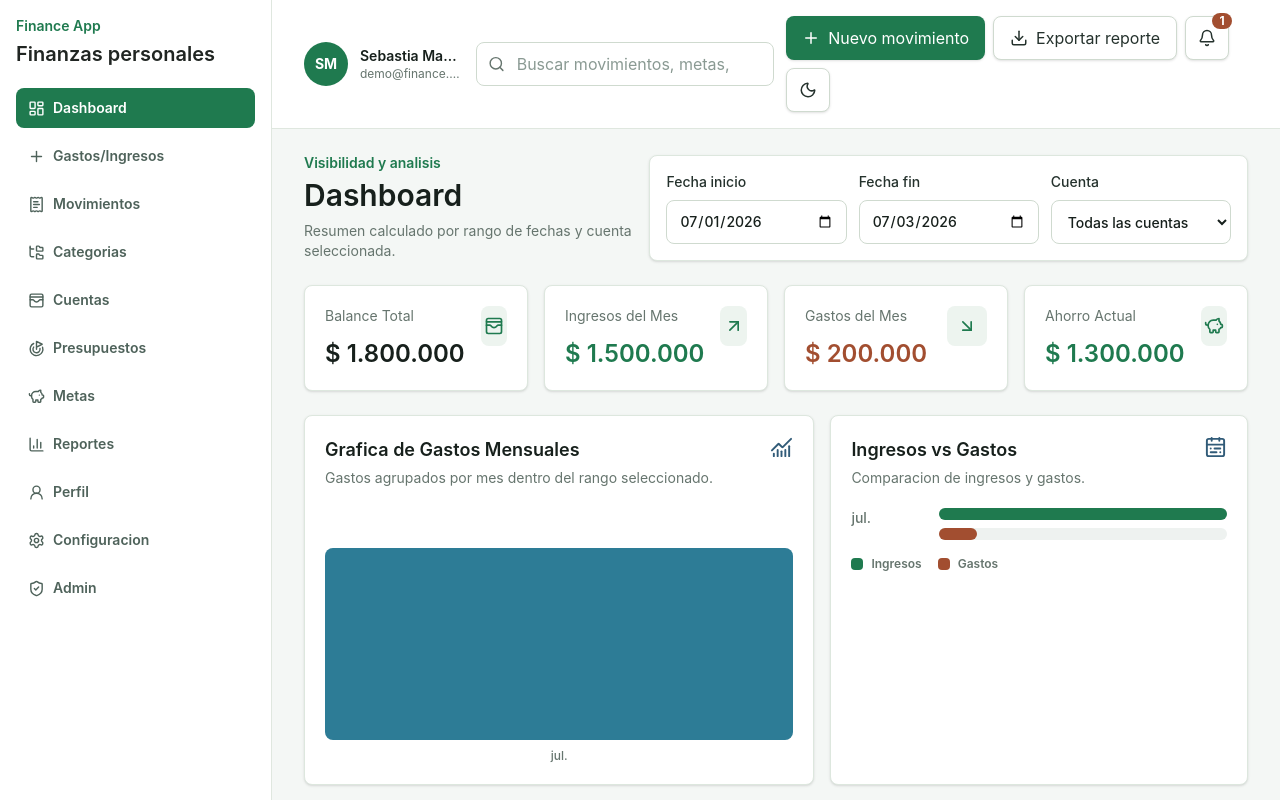
HU-04 Visibilidad y Analisis › muestra dashboard con resumen, filtros y busqueda global
Expected: the heading "Dashboard" is shown, [304,177,462,213]
Expected: the text "Balance Total" is shown, [325,307,414,324]
In the field named "buscador global": (625, 64) [476,42,774,86], type "mercado"
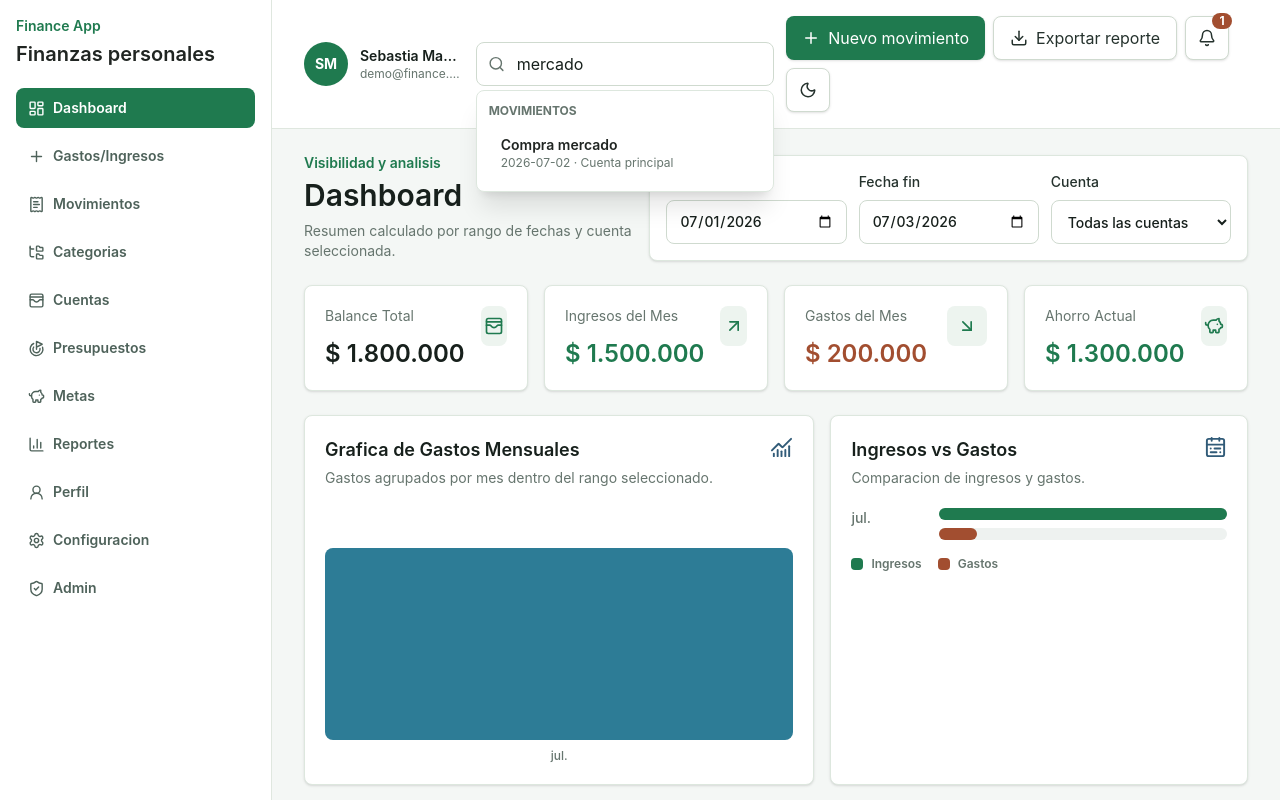
Expected: the text "Compra mercado" is shown, [501,136,618,153]
